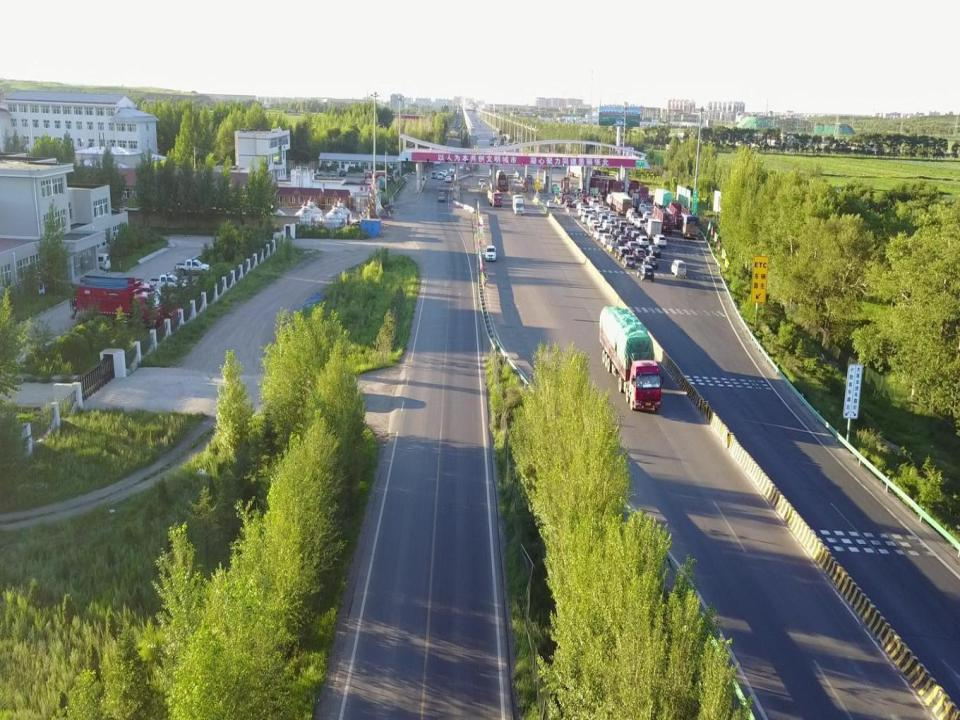car: (147, 272, 186, 290), (174, 256, 212, 272), (636, 266, 654, 282), (614, 245, 630, 260), (483, 243, 497, 260), (621, 254, 635, 270), (632, 246, 646, 261), (642, 255, 658, 268), (606, 241, 621, 253), (653, 233, 666, 246), (600, 233, 613, 246), (589, 218, 602, 231), (575, 204, 589, 216), (636, 234, 649, 246), (584, 214, 597, 226), (625, 240, 639, 251), (594, 227, 606, 239), (647, 245, 660, 256), (617, 234, 630, 245), (587, 206, 600, 217), (628, 239, 640, 250), (601, 218, 613, 229), (617, 219, 628, 230), (595, 204, 606, 215), (612, 228, 624, 238), (606, 223, 618, 233), (596, 212, 608, 222), (629, 230, 641, 240), (624, 225, 636, 235), (612, 215, 624, 225), (608, 212, 620, 222), (546, 199, 554, 208), (444, 175, 452, 183), (440, 168, 447, 177), (512, 175, 519, 183), (576, 201, 586, 206), (573, 198, 583, 203), (449, 166, 456, 172), (459, 164, 466, 170), (430, 170, 435, 178)
truck: (598, 305, 662, 412), (68, 276, 157, 319), (72, 277, 157, 313), (653, 202, 673, 232), (605, 191, 632, 213), (667, 200, 687, 228), (681, 211, 699, 238), (650, 186, 671, 206), (486, 186, 504, 207), (645, 218, 662, 238), (511, 194, 525, 215), (496, 169, 508, 190), (592, 177, 606, 195), (609, 179, 621, 193), (640, 184, 649, 198), (628, 181, 637, 195), (438, 191, 446, 201)
van: (87, 251, 111, 271), (671, 258, 686, 278), (579, 207, 593, 222), (634, 217, 646, 229), (628, 215, 640, 225), (588, 198, 599, 208), (642, 210, 652, 219), (565, 198, 574, 207), (626, 208, 634, 216), (436, 171, 443, 180)
